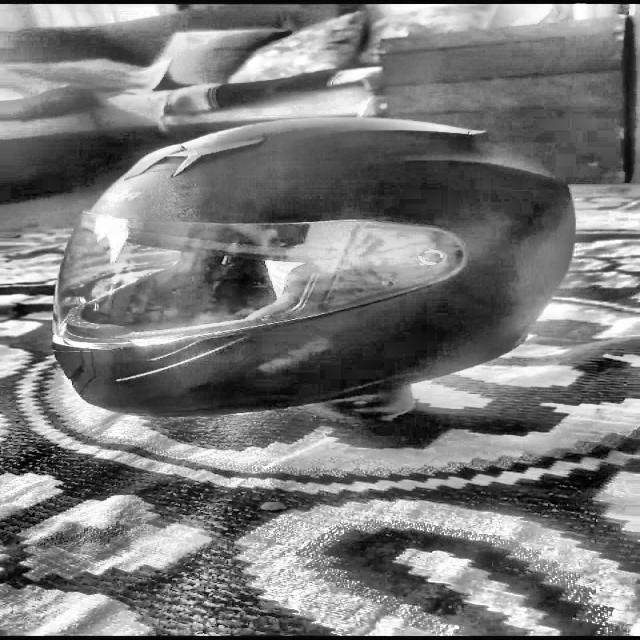Helmet: (51, 117, 588, 439)
